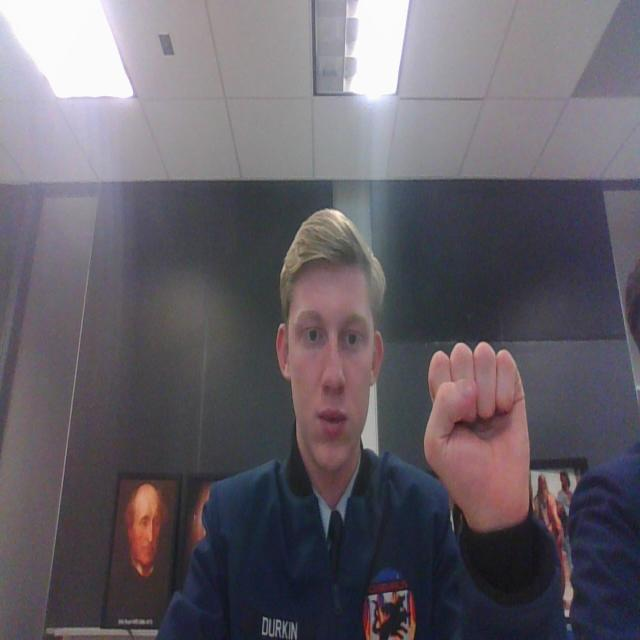rock: (418, 337, 540, 547)
